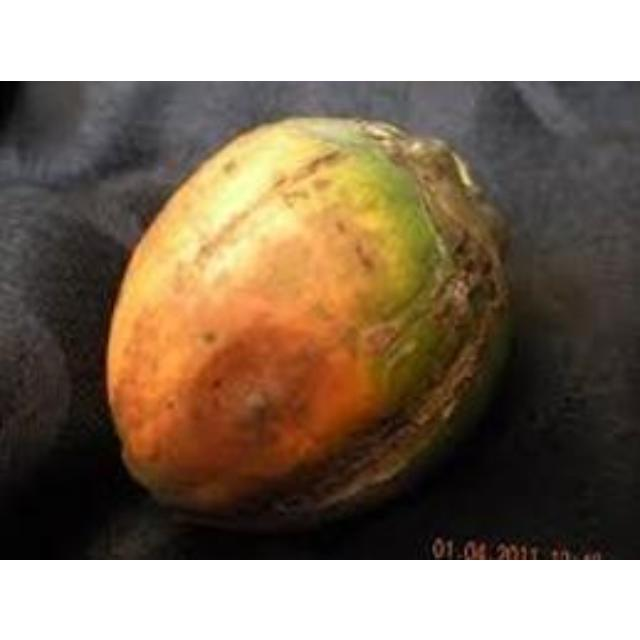damaged: (101, 117, 516, 542)
